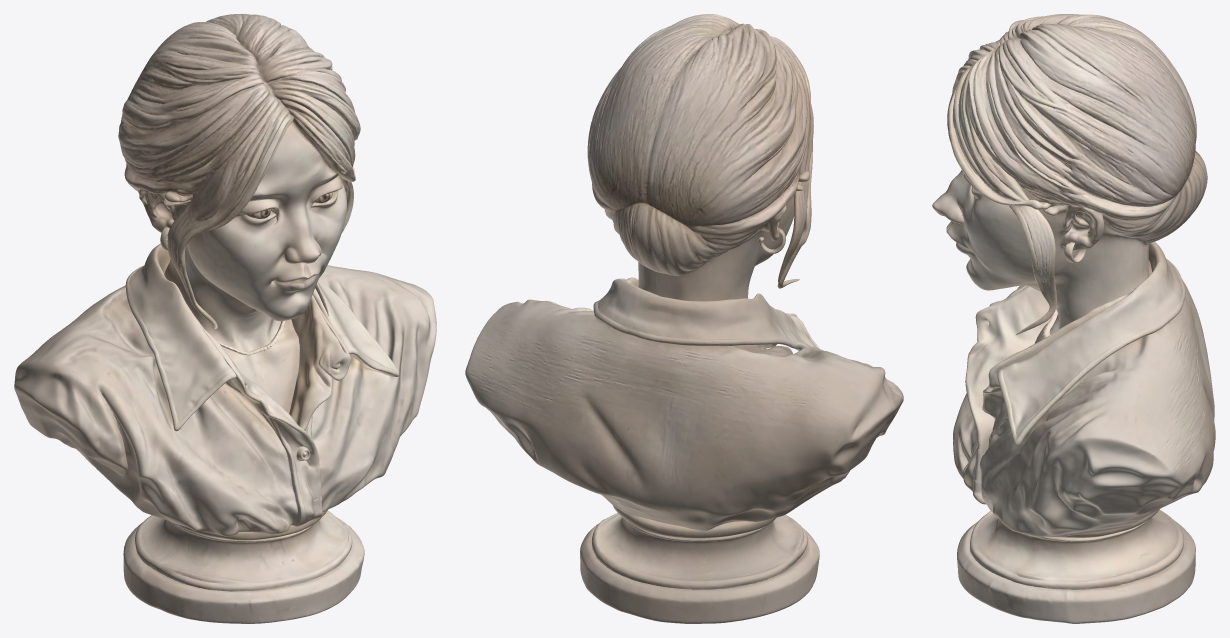
3 views of the same model, side by side, from view 1: azimuth 30°, elevation 25°; view 2: azimuth 150°, elevation 25°; view 3: azimuth 270°, elevation 25° (orthographic).
Parts seen in each view (by area): view 1: model; view 2: model; view 3: model.
Part boxes in pixels (box(x1,y1,x2,y2)): model: box(14, 14, 436, 623); model: box(465, 14, 903, 623); model: box(932, 14, 1215, 623).
Bounding box in the file's own units: 1.44 × 1.9 × 0.8858.
1 material, 1 textured.
